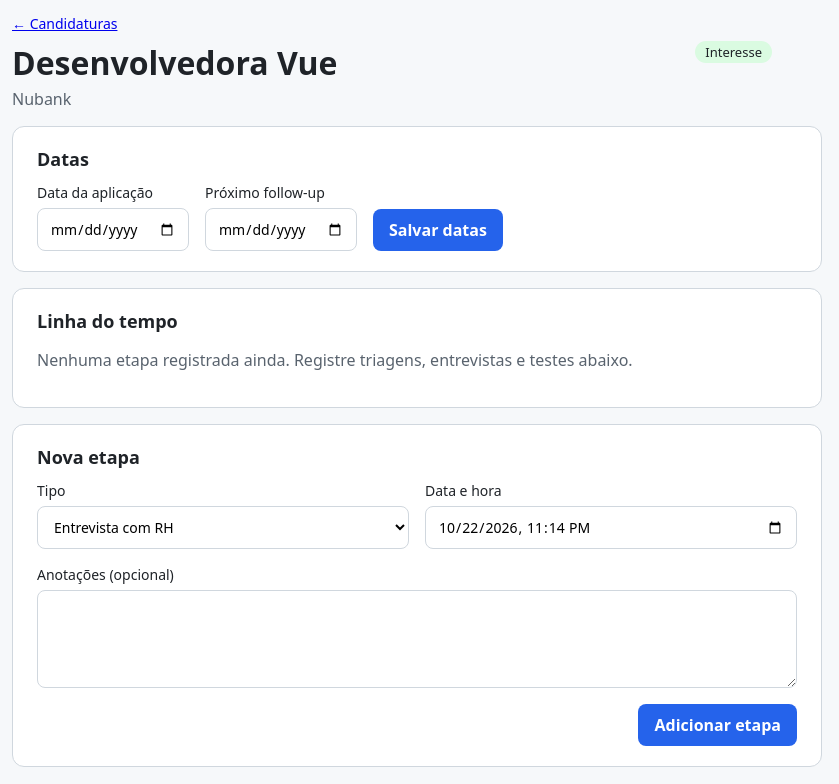
CandidaturaView › datas da candidatura › salva as datas e manda null para o campo que ficou vazio
The width and height of the screenshot is (839, 784).
Type "2026-10-22" into the date field with test id "data-aplicacao" at {"x": 113, "y": 230}, box [37, 208, 189, 251]
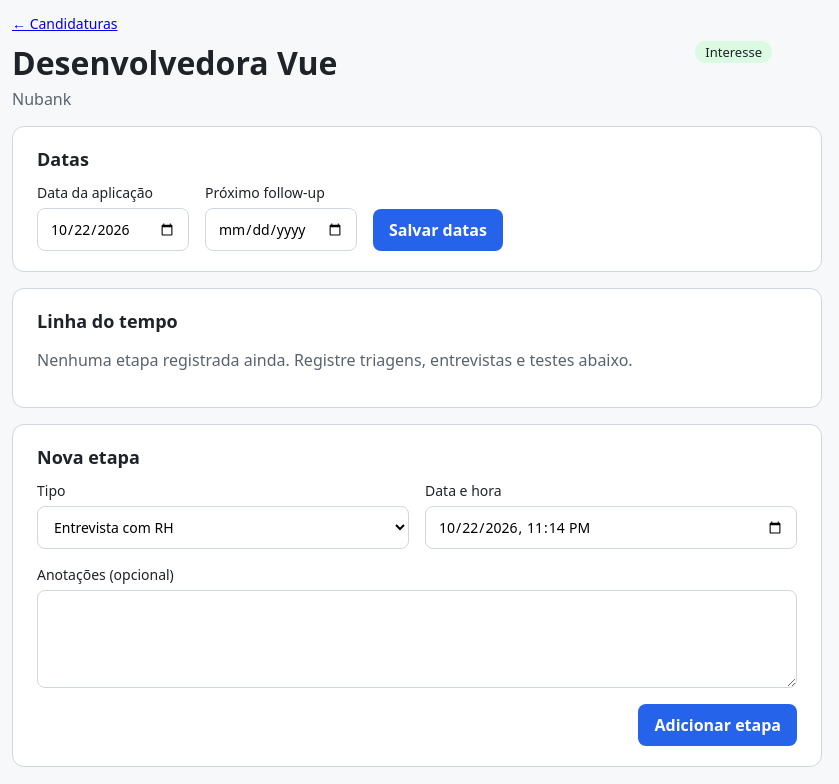
Submit the form from the button with test id "salvar-datas", box [373, 209, 503, 251]
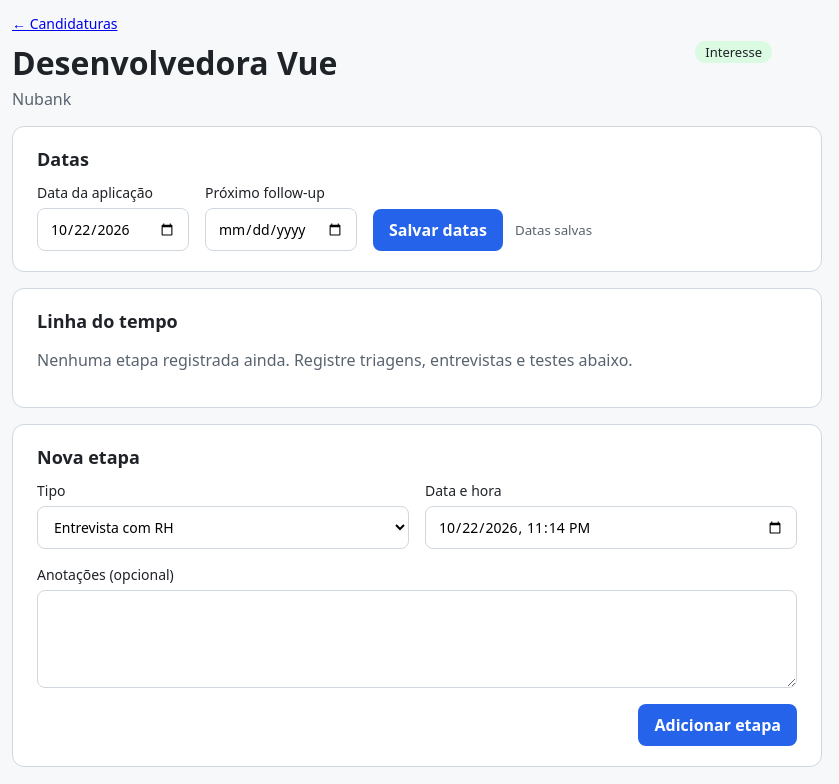
Check: the message with test id "datas-salvas" reads "Datas salvas", box [515, 221, 592, 239]
